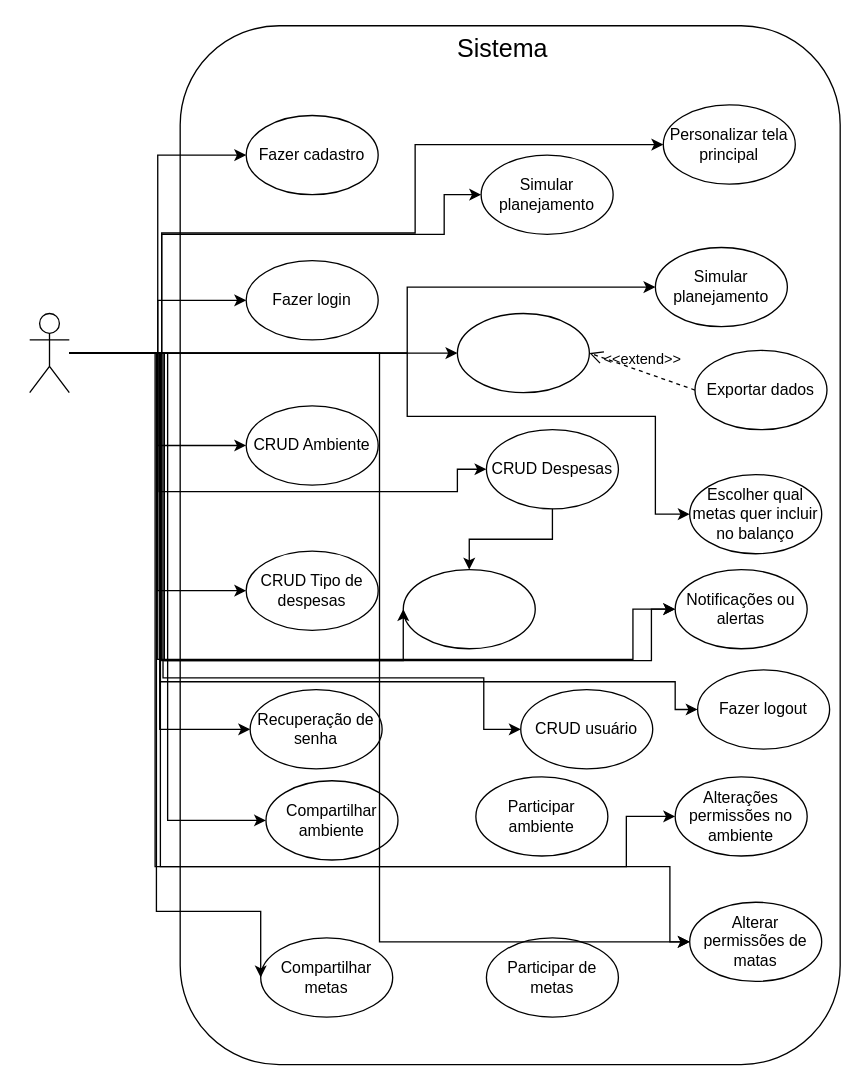
This 863x1088 diagram has some shape labels left out. The shapes that lost their labels are listed below. From the top down, each one's centre as x and y in pixels, then its label:
At point 48,352: "Usuário".
At point 522,352: "Gerar relatórios".
At point 468,608: "CRUD metas".
